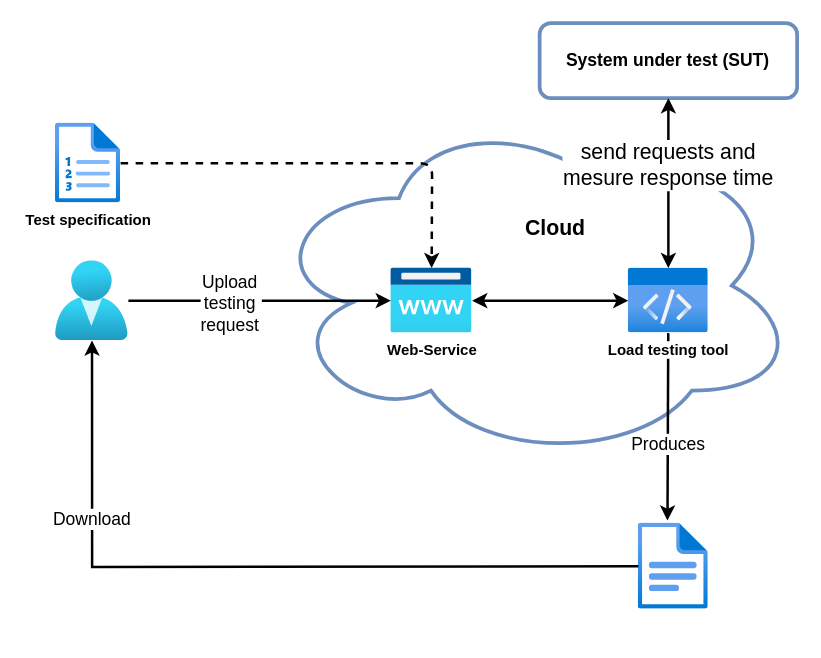
Image size: 821x658. Some labels were removed from this diagram. The shapes that lost their labels are listed below. From the top down, each one's centre as x and y in pixels, then its label:
(x=91, y=300): user
(x=673, y=565): Performance metrics
